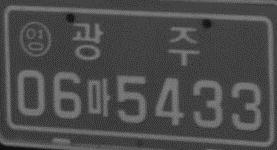0: (15, 68, 46, 116)
3: (191, 79, 224, 129), (229, 81, 262, 131)
4: (153, 77, 184, 127)
5: (114, 73, 148, 124)
6: (52, 71, 83, 120)
광주_D: (71, 22, 199, 66)
마: (86, 78, 111, 118)
영: (18, 20, 52, 58)
